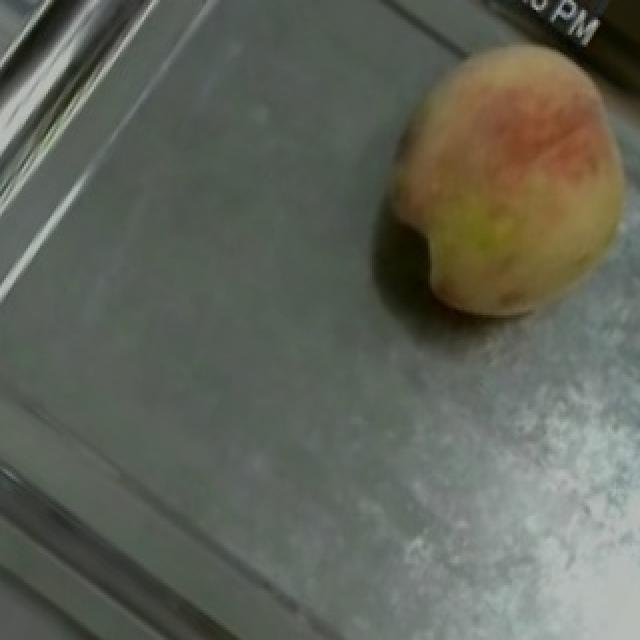Fruit: (336, 0, 640, 362)
